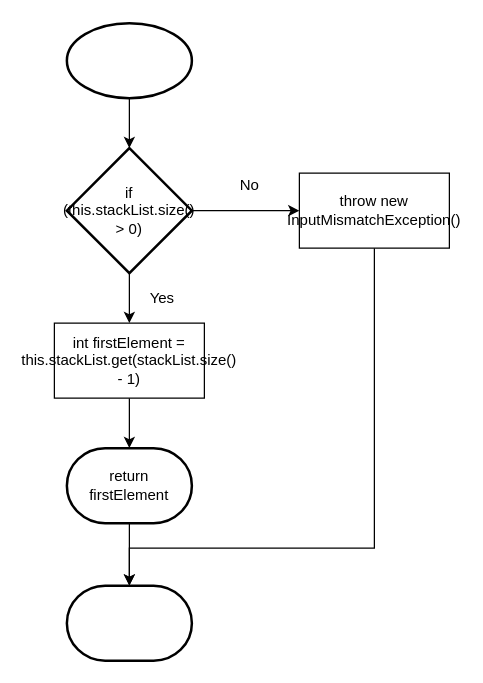
Image size: 483x683. Some labels were removed from this diagram. The shapes that lost their labels are listed below. From the top down, each one's box as (x1, y1, x2, y2) in pixels, then its label:
(65, 21, 192, 99): Start
(65, 584, 192, 661): Stop
